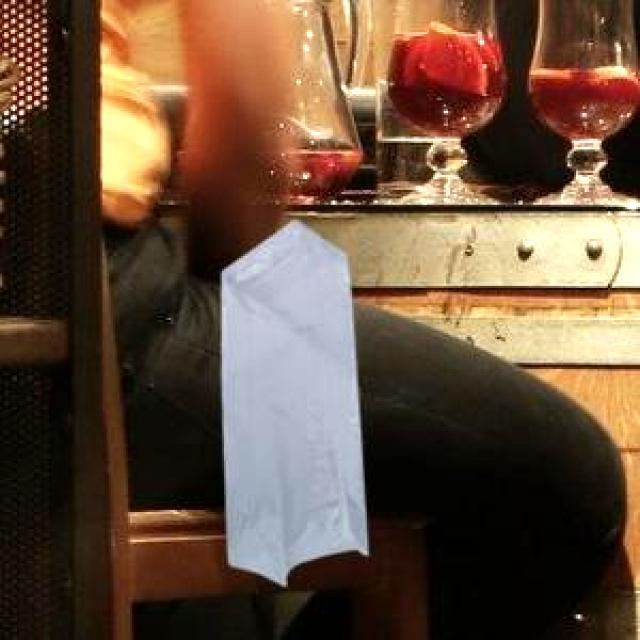Plastic_Bag: (218, 216, 364, 582)
